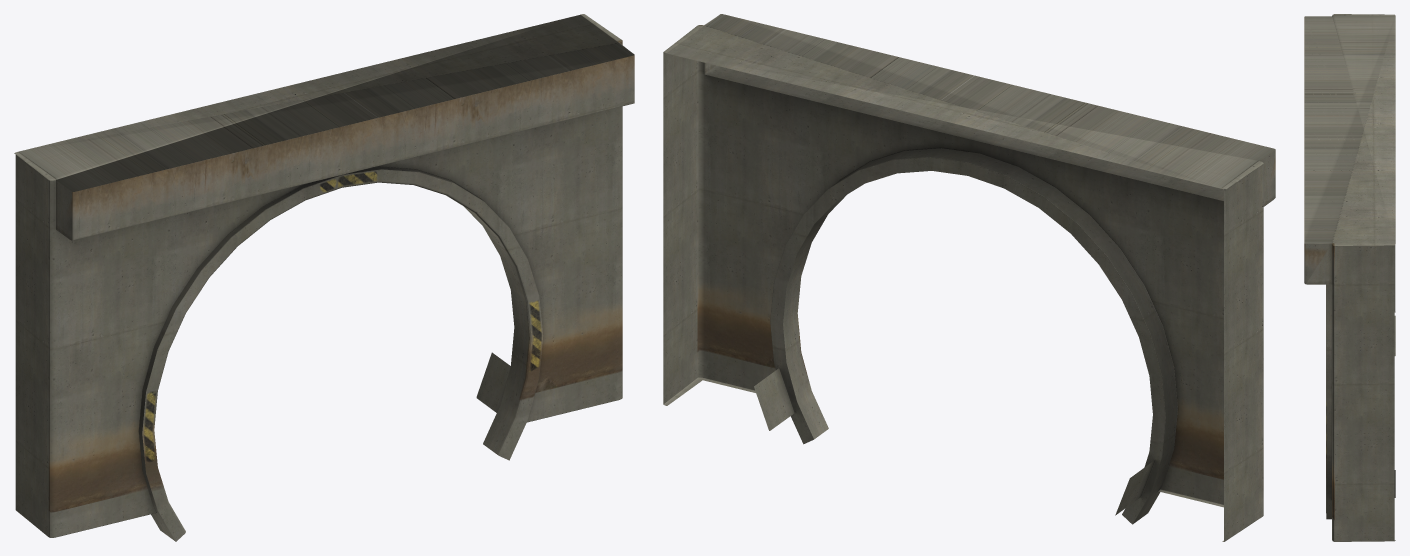
File: Tun_RoundSemiEntrancee.fbx
The picture shows the model from 3 angles, left to right: view 1: azimuth 30°, elevation 25°; view 2: azimuth 150°, elevation 25°; view 3: azimuth 270°, elevation 25°; orthographic projection. The views are drawn at different scales.
Parts seen in each view (by area): view 1: EntranceCover; view 2: EntranceCover; view 3: EntranceCover.
Part boxes in pixels (box(x1,y1,x2,y2)): EntranceCover: box(14, 14, 634, 541); EntranceCover: box(663, 14, 1275, 541); EntranceCover: box(1304, 14, 1395, 541).
Size of the model in its own units: 1457 by 943 by 242.
